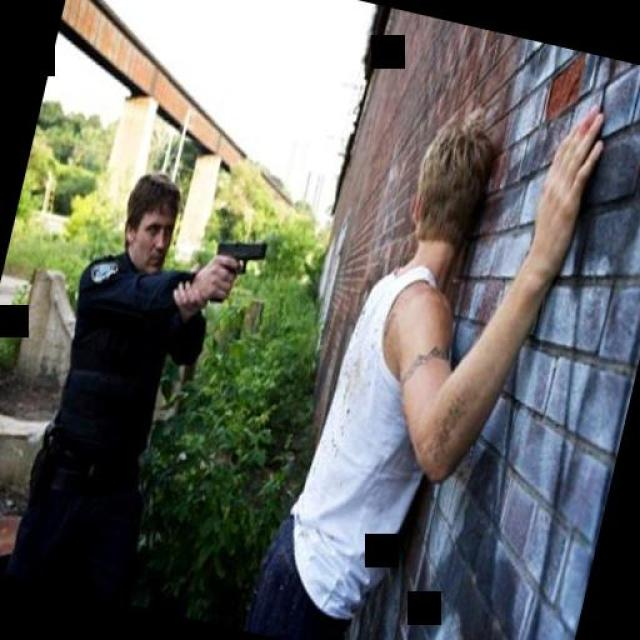gun: (204, 231, 270, 309)
